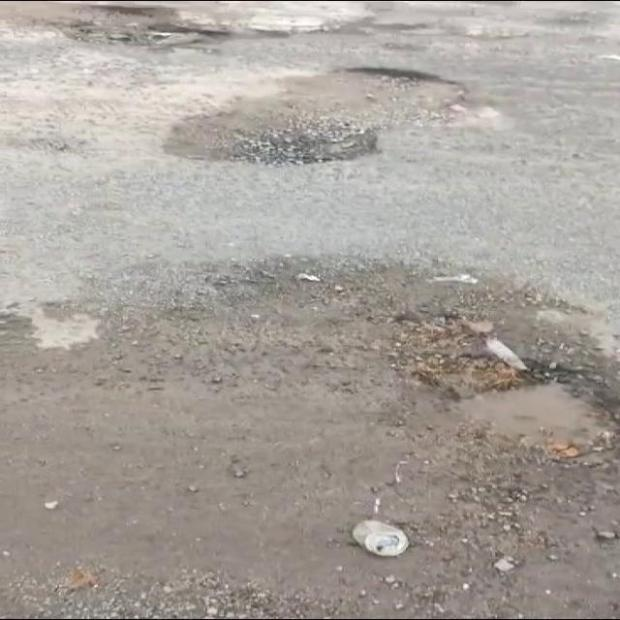lubang: (391, 310, 619, 459), (166, 69, 481, 163), (70, 6, 230, 50)
